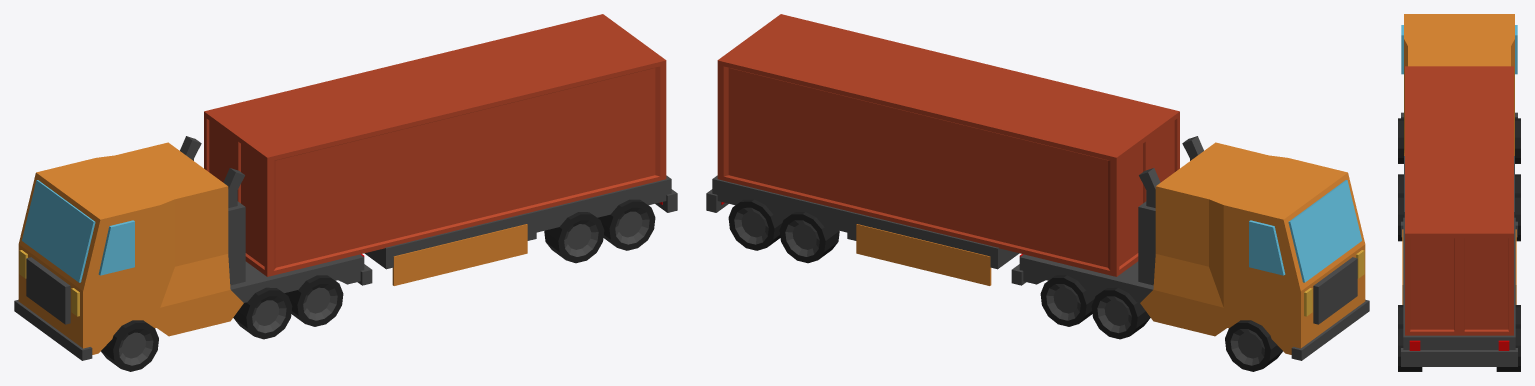
File: truck.fbx
3 renders of one model, left to right at view 1: azimuth 30°, elevation 25°; view 2: azimuth 150°, elevation 25°; view 3: azimuth 270°, elevation 25°, orthographic. The views are drawn at different scales.
Visible parts, largest first — view 1: Cube.002; view 2: Cube.002; view 3: Cube.002.
Part boxes in pixels (x1=…): Cube.002: x1=14, y1=14, x2=677, y2=371; Cube.002: x1=706, y1=14, x2=1369, y2=371; Cube.002: x1=1398, y1=14, x2=1520, y2=371.
Size of the model in its own units: 1468 by 415 by 304.
